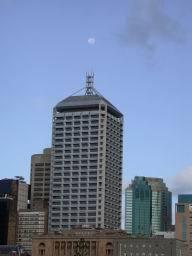building: (49, 72, 122, 231), (31, 230, 189, 256), (126, 176, 172, 236), (30, 147, 52, 210), (17, 210, 47, 256), (0, 176, 29, 209), (0, 192, 17, 245), (178, 194, 192, 239)
